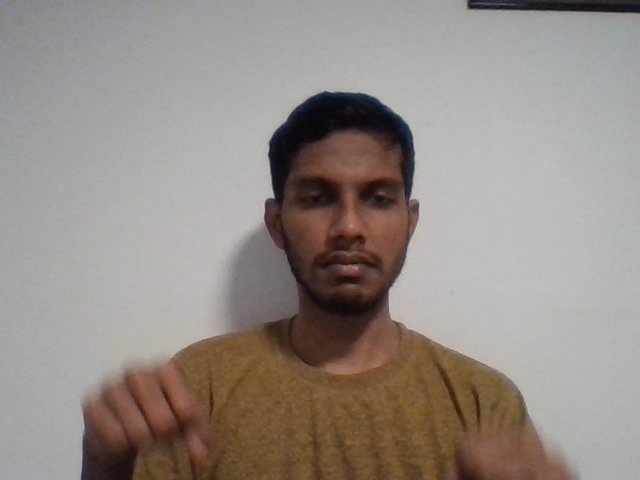yes: (70, 354, 227, 469)
